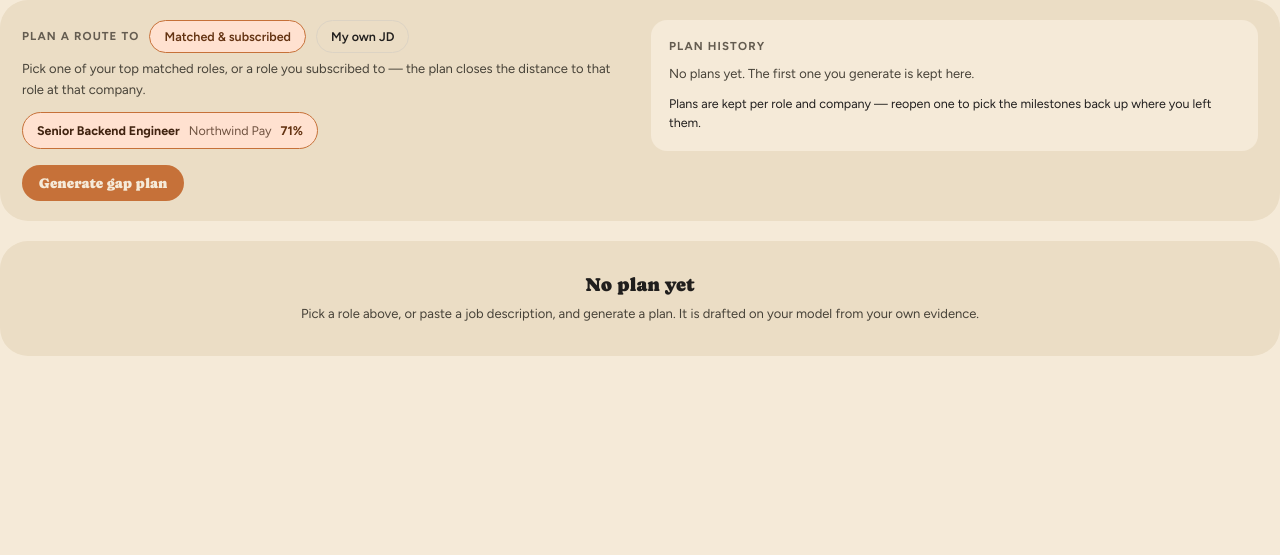
Test: gap plan screen › prices a plan before anything is spent, then shows it drafting
Expected: the text "No plan yet" is shown, [585, 274, 695, 295]
Click the button "Generate gap plan".
click(103, 183)  # box [22, 165, 184, 201]
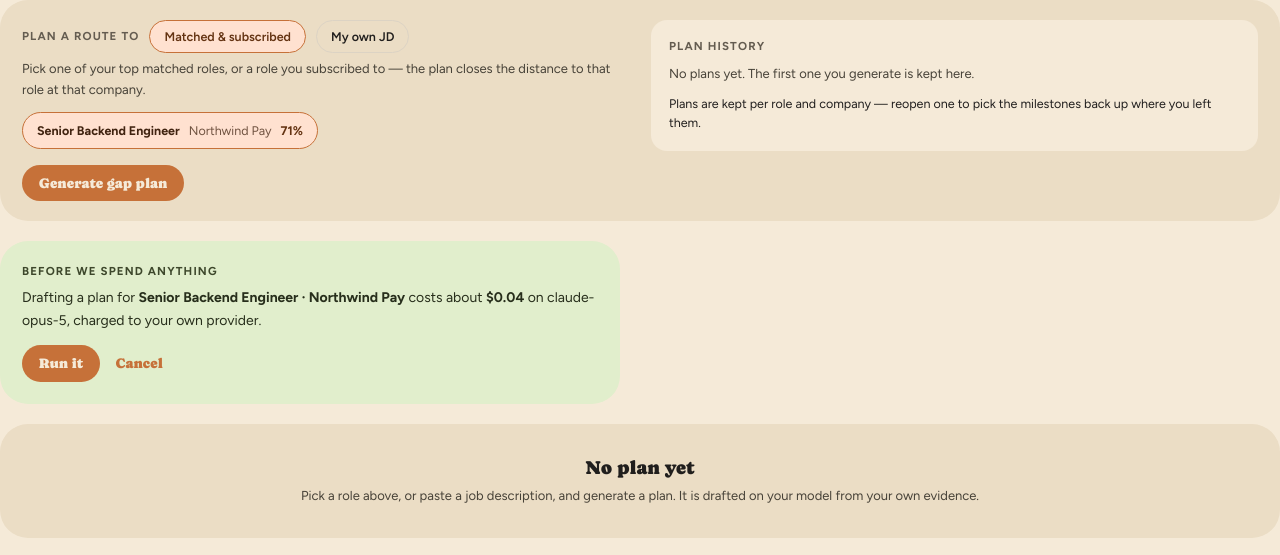
Expected: the element named "Cost estimate" shows "$0.04", [0, 241, 620, 404]
Click the button "Run it".
click(61, 363)  # box [22, 345, 100, 382]
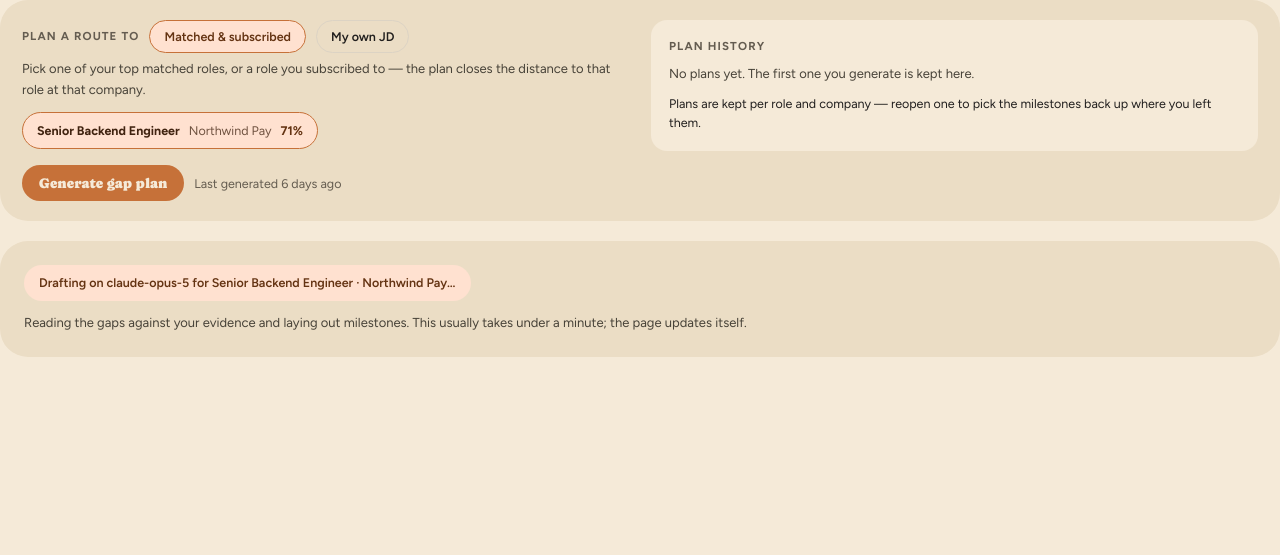
Expected: the text "Drafting on claude-opus-5" is shown, [24, 265, 470, 301]
